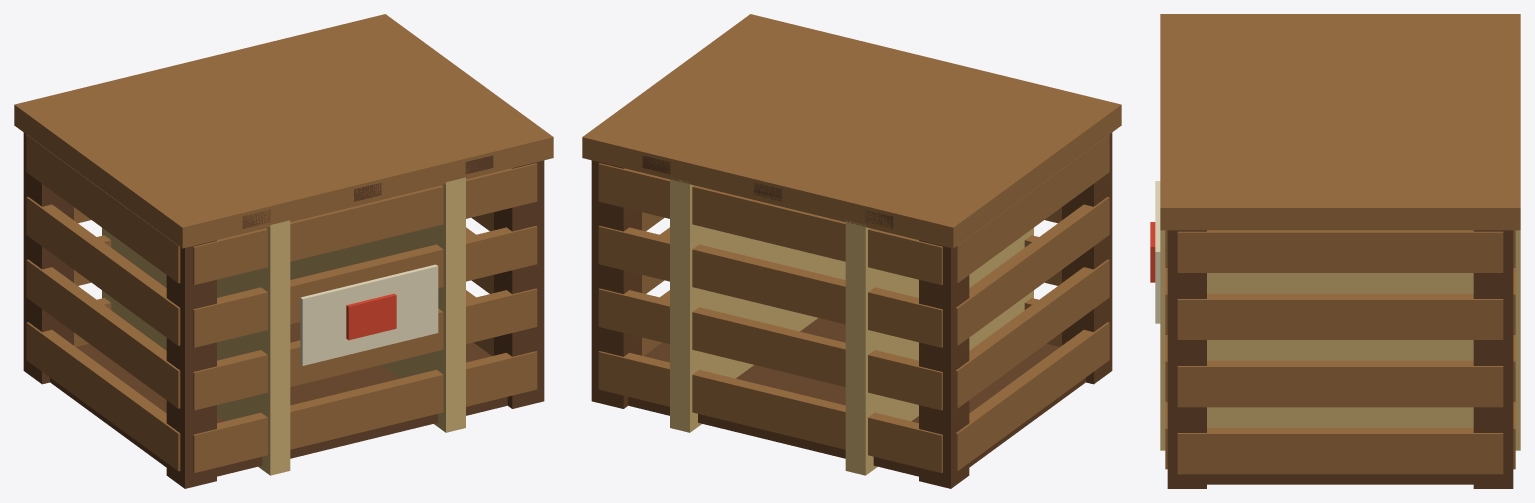
The model's file is CrabCrate.glb.
3 renders of one model, left to right at view 1: azimuth 30°, elevation 25°; view 2: azimuth 150°, elevation 25°; view 3: azimuth 270°, elevation 25°, orthographic. The views are drawn at different scales.
Parts seen in each view (by area): view 1: CrabCrate, Lid; view 2: CrabCrate, Lid; view 3: CrabCrate, Lid.
Part boxes in pixels (x1,y1,x2,y2): CrabCrate: [23, 132, 544, 488]; Lid: [14, 14, 553, 248]; CrabCrate: [591, 132, 1112, 488]; Lid: [582, 14, 1121, 248]; CrabCrate: [1150, 181, 1520, 488]; Lid: [1160, 14, 1520, 230].
Bounding box in the file's own units: 0.93 × 0.645 × 0.75.
